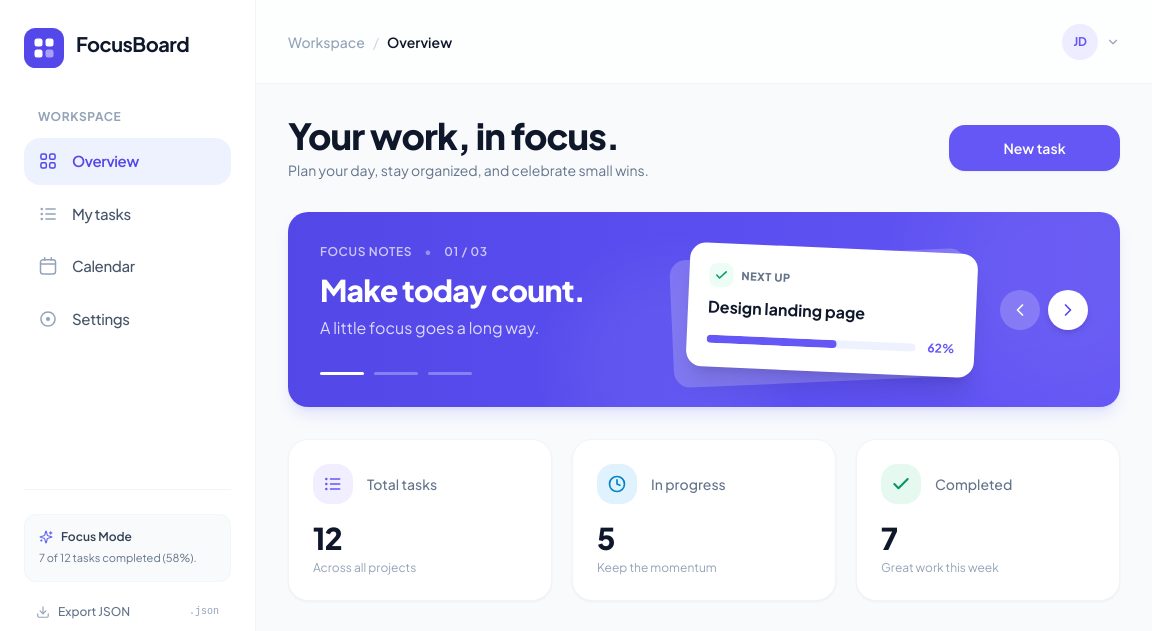
Test case: FocusBoard Full Application End-to-End Interactions › navigates the Focus Notes Carousel
The image size is (1152, 631).
Check: the heading "Make today count." is shown, box [320,271,585,309]
Note: Click Next button
Click the button named "Next slide" at (1068, 310), box [1048,290,1088,330]
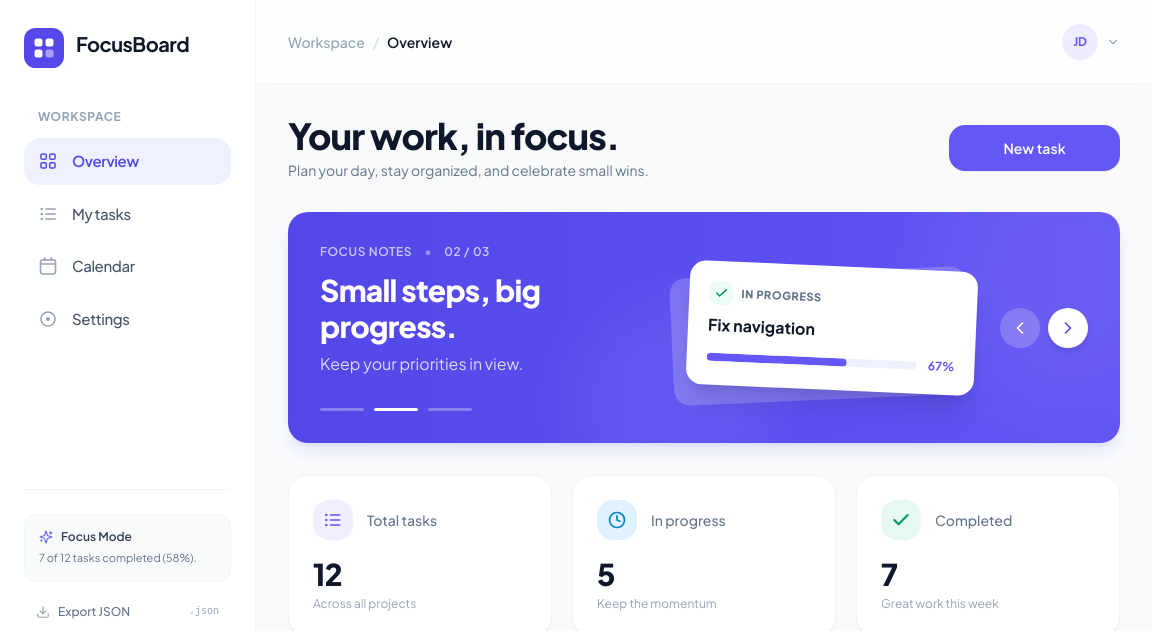
Check: the heading "Small steps, big progress." is shown, box [320,271,540,345]
Note: Click Next button again
Click the button named "Next slide" at (1068, 328), box [1048,308,1088,348]
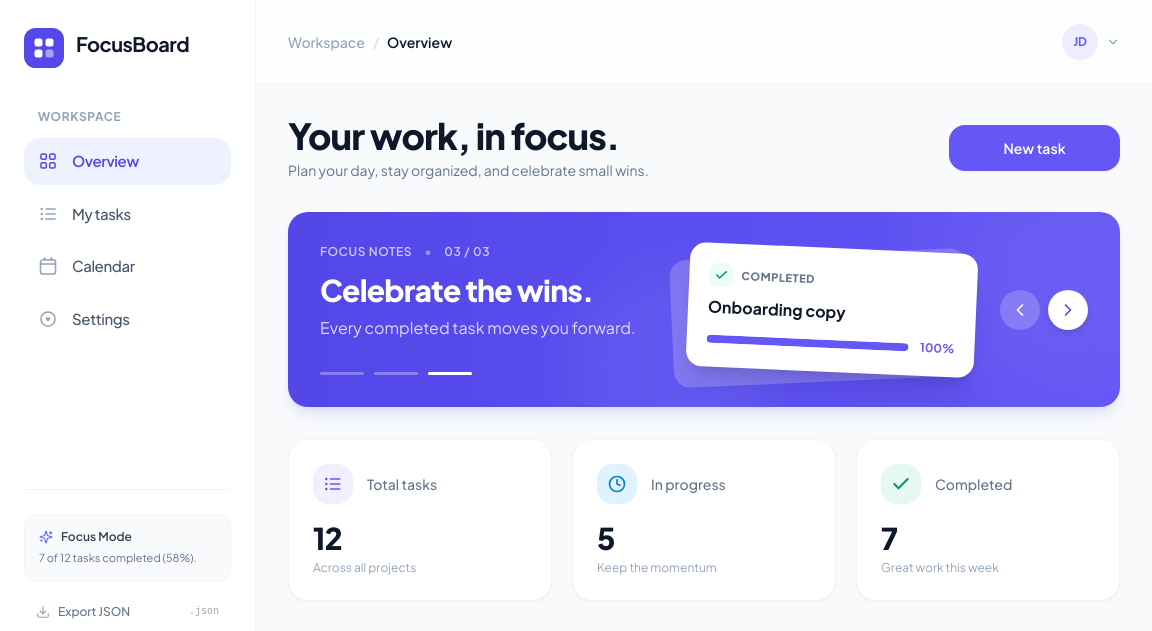
Check: the heading "Celebrate the wins." is shown, box [320,271,594,309]
Note: Click Prev button
Click the button named "Previous slide" at (1020, 310), box [1000,290,1040,330]
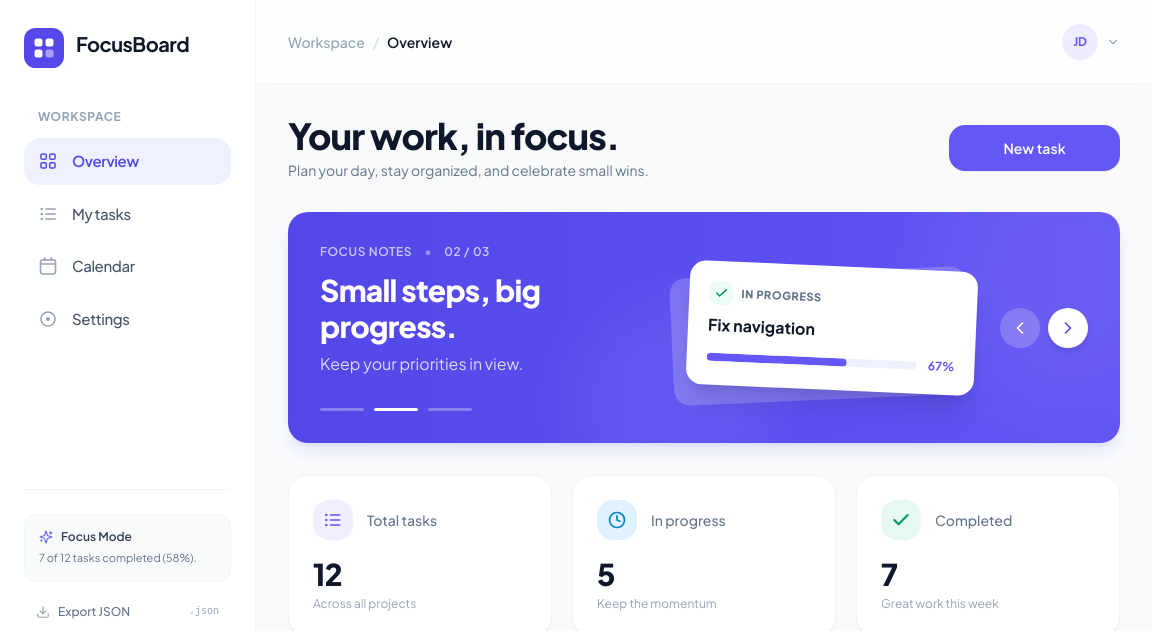
Check: the heading "Small steps, big progress." is shown, box [320,271,540,345]
